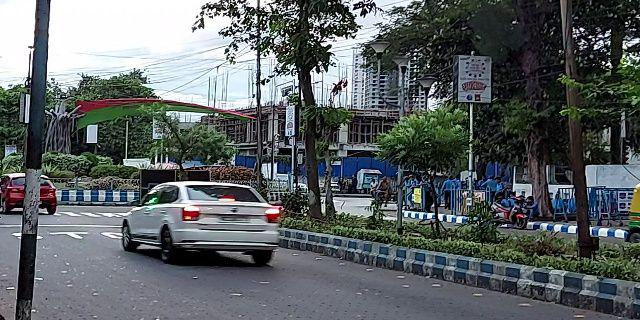Car: (118, 175, 289, 269), (2, 171, 60, 217)
